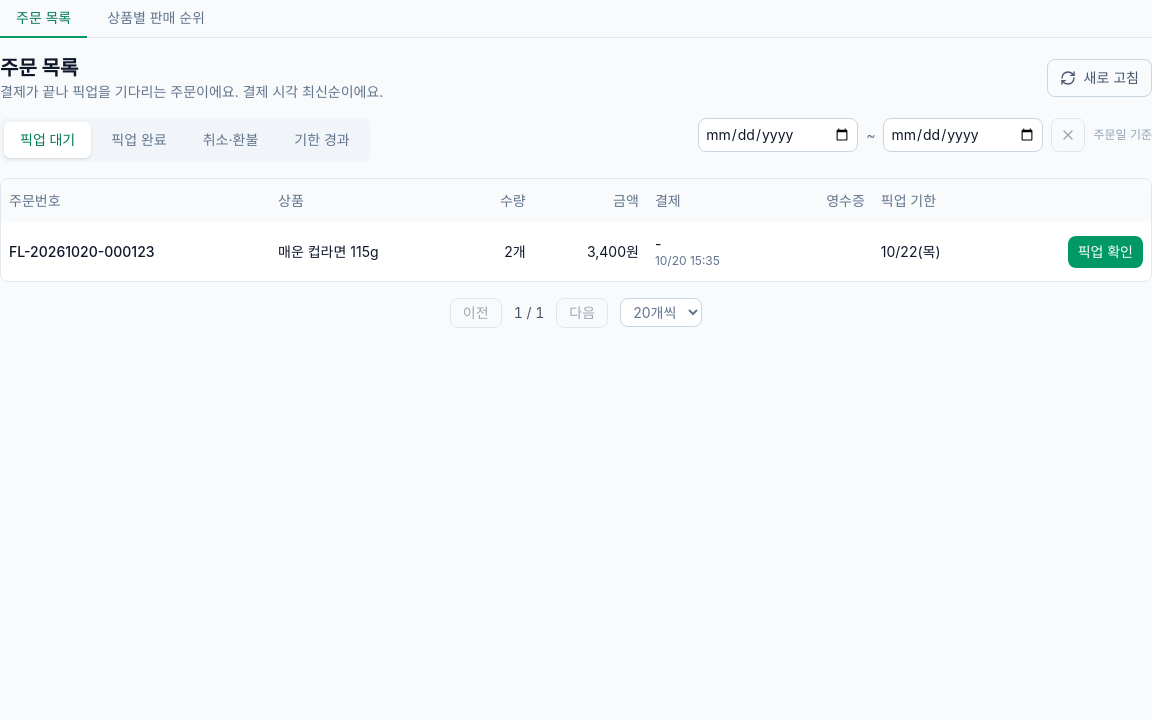
Test: 점주 주문 목록 (S-50·A5·A6) › [픽업 확인] → 확인 창 [픽업 완료] → OR-05 를 부르고 목록을 다시 읽는다 (A5)
The width and height of the screenshot is (1152, 720).
Click the button with aria-label "FL-20261020-000123 픽업 확인" at (1105, 252), box [1068,236,1143,268]
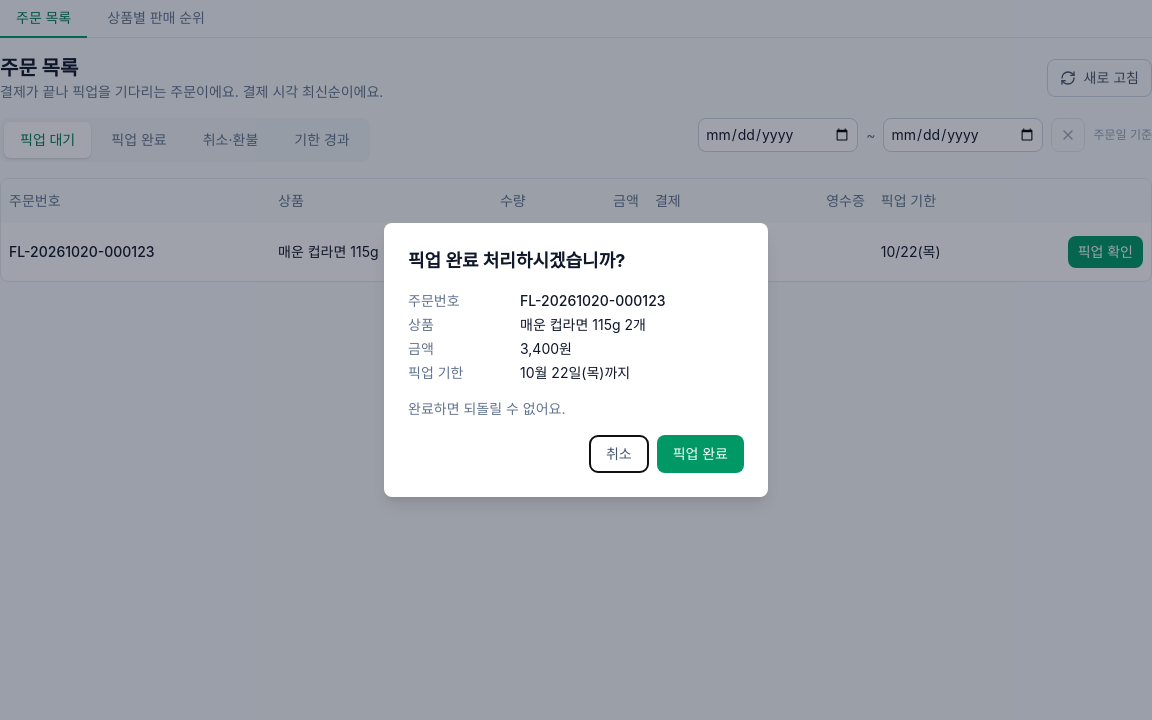
Expected: the text "매운 컵라면 115g 2개" is shown, [520,316,646,333]
Expected: the text "10월 22일(목)까지" is shown, [520,364,630,381]
Click the button "픽업 완료" at (700, 454), box [657,435,744,473]
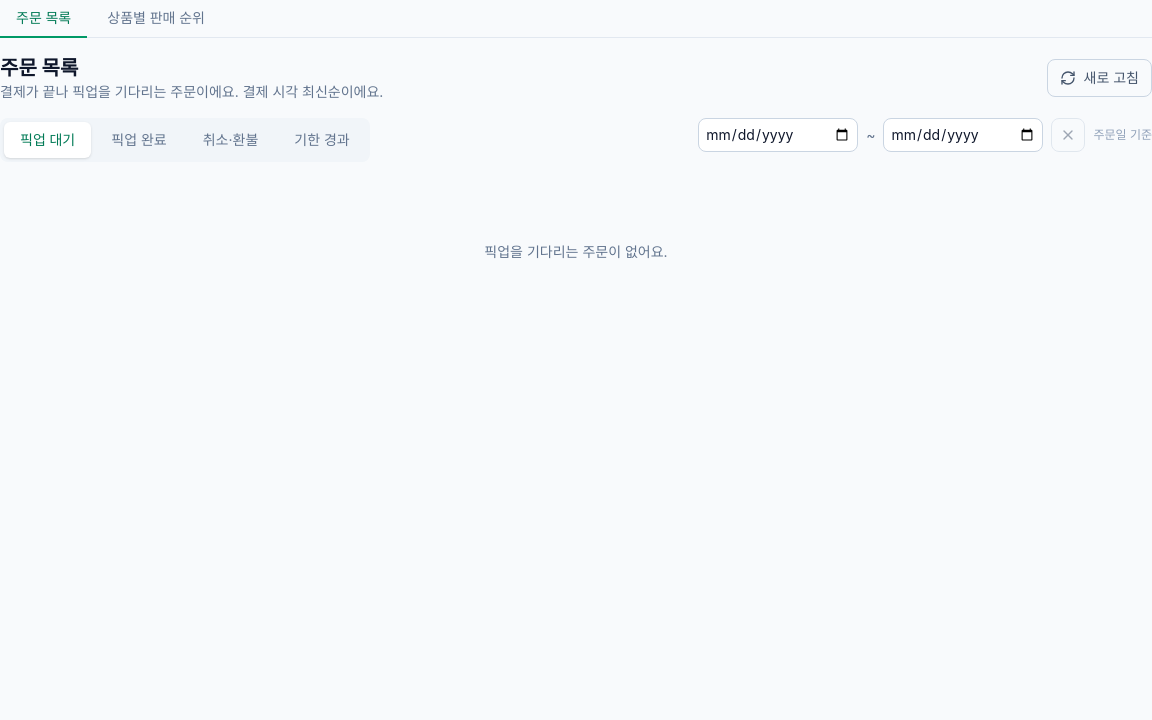
Expected: the text "픽업을 기다리는 주문이 없어요." is shown, [484,243,668,260]
